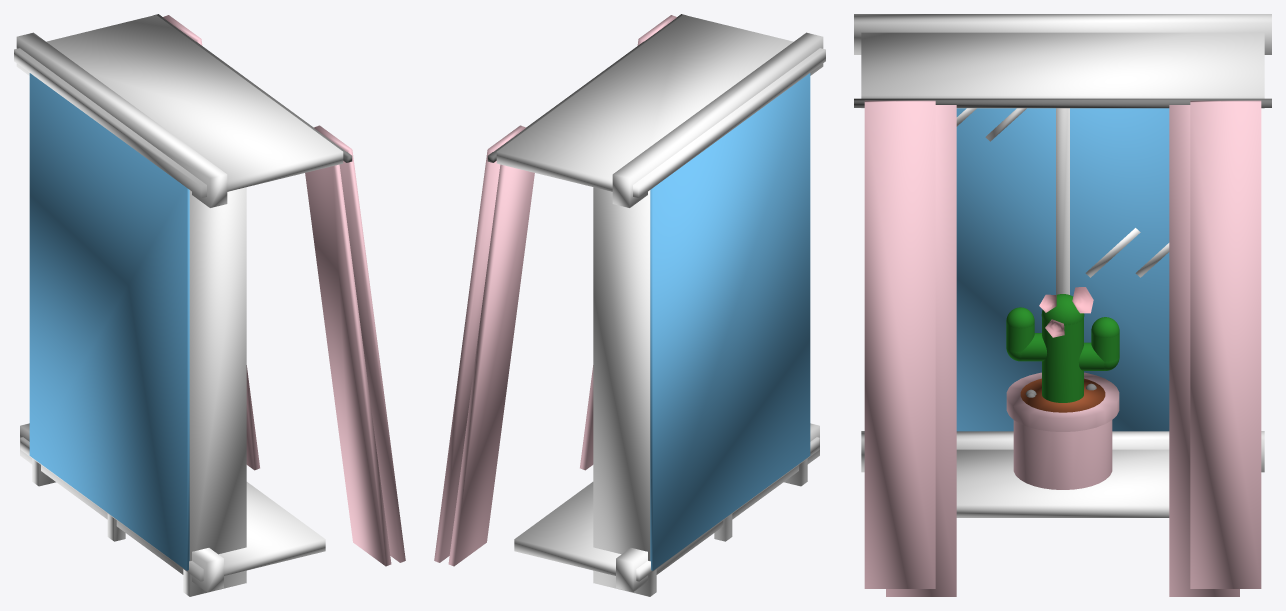
The model's file is kaktusas.obj.
3 views of the same model, side by side, from view 1: azimuth 30°, elevation 25°; view 2: azimuth 150°, elevation 25°; view 3: azimuth 270°, elevation 25° (orthographic). The views are drawn at different scales.
Size of the model in its own units: 3.63 by 7.49 by 5.9.
